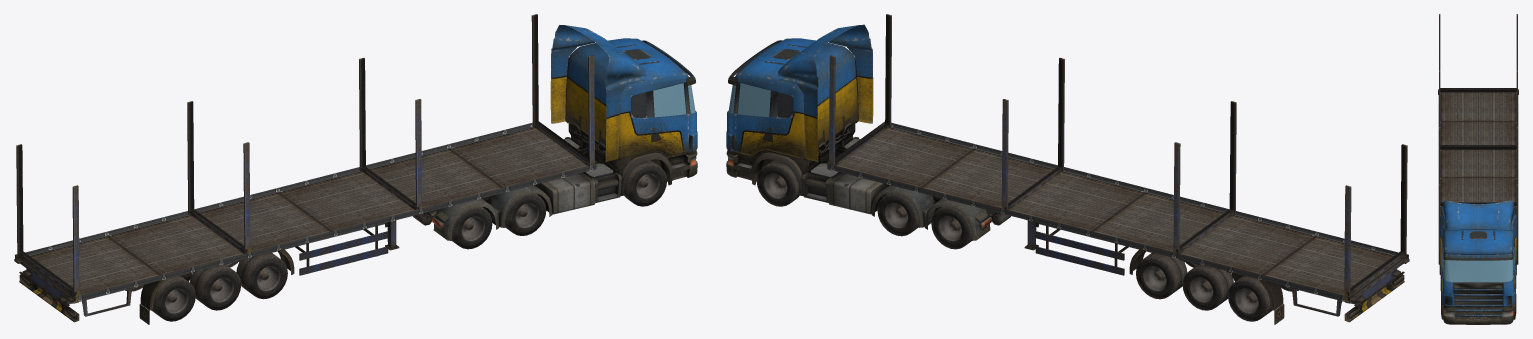
The model's file is Truck_Flatbed_Trailer_01.fbx.
The picture shows the model from 3 angles, left to right: view 1: azimuth 30°, elevation 25°; view 2: azimuth 150°, elevation 25°; view 3: azimuth 270°, elevation 25°; orthographic projection. The views are drawn at different scales.
Parts seen in each view (by area): view 1: Truck_Trailer_FlatBed_01, Truck_Cab_01, Truck_Cab_Chassis_01, Truck_Trailer_Wheels_04, Truck_Trailer_Wheels_00, Truck_Trailer_Wheels_02, Truck_Cab_Wheels_03, Truck_Cab_Wheels_05, Truck_Cab_Wheels_02; view 2: Truck_Trailer_FlatBed_01, Truck_Cab_01, Truck_Cab_Chassis_01, Truck_Trailer_Wheels_01, Truck_Trailer_Wheels_05, Truck_Cab_Wheels_00, Truck_Trailer_Wheels_03, Truck_Cab_Wheels_01, Truck_Cab_Wheels_04; view 3: Truck_Trailer_FlatBed_01, Truck_Cab_01, Truck_Cab_Chassis_01.
Boxes of the visible parts, bbox=[...] form: Truck_Trailer_FlatBed_01: bbox=[14, 14, 596, 324]; Truck_Cab_01: bbox=[550, 25, 697, 162]; Truck_Cab_Chassis_01: bbox=[413, 122, 697, 240]; Truck_Trailer_Wheels_04: bbox=[236, 252, 287, 299]; Truck_Trailer_Wheels_00: bbox=[190, 264, 241, 310]; Truck_Trailer_Wheels_02: bbox=[151, 275, 195, 321]; Truck_Cab_Wheels_03: bbox=[624, 160, 666, 206]; Truck_Cab_Wheels_05: bbox=[505, 194, 546, 235]; Truck_Cab_Wheels_02: bbox=[452, 207, 492, 249]; Truck_Trailer_FlatBed_01: bbox=[827, 14, 1409, 324]; Truck_Cab_01: bbox=[726, 24, 873, 162]; Truck_Cab_Chassis_01: bbox=[726, 122, 1010, 240]; Truck_Trailer_Wheels_01: bbox=[1136, 252, 1187, 299]; Truck_Trailer_Wheels_05: bbox=[1182, 264, 1233, 310]; Truck_Cab_Wheels_00: bbox=[756, 160, 799, 206]; Truck_Trailer_Wheels_03: bbox=[1228, 275, 1272, 321]; Truck_Cab_Wheels_01: bbox=[877, 193, 918, 236]; Truck_Cab_Wheels_04: bbox=[931, 206, 971, 249]; Truck_Trailer_FlatBed_01: bbox=[1438, 14, 1518, 264]; Truck_Cab_01: bbox=[1440, 200, 1516, 306]; Truck_Cab_Chassis_01: bbox=[1439, 264, 1516, 324].
Bounding box in the file's own units: 1647 × 409 × 264.
